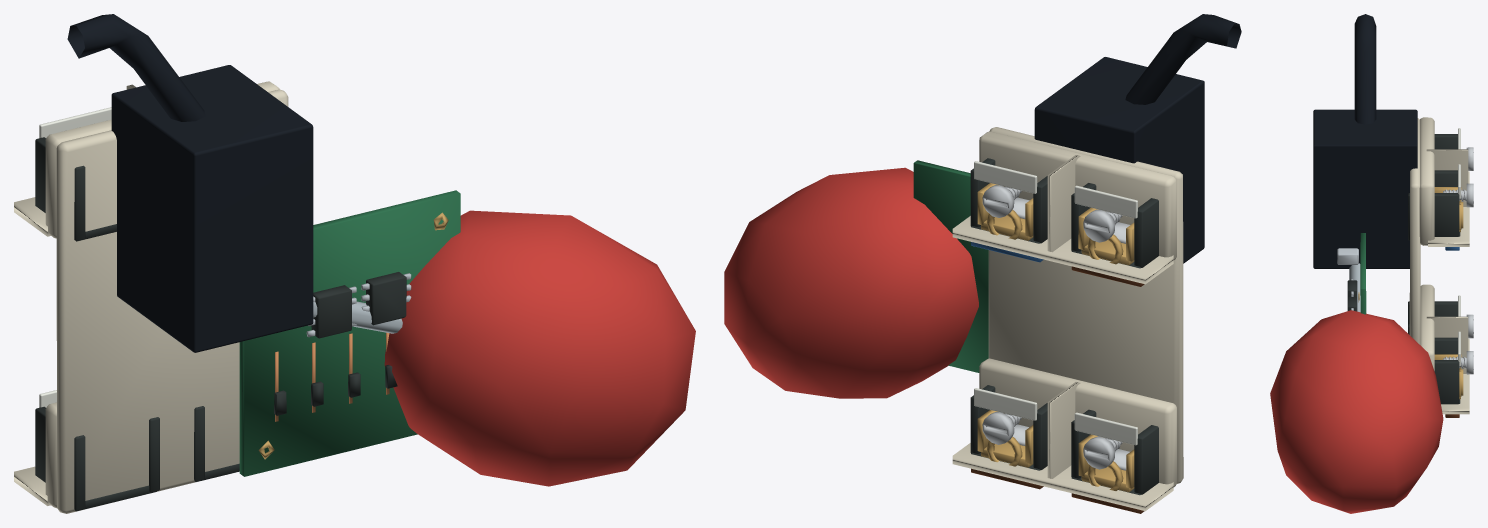
File: sensor_mode_float.low.glb
3 renders of one model, left to right at view 1: azimuth 30°, elevation 25°; view 2: azimuth 150°, elevation 25°; view 3: azimuth 270°, elevation 25°, orthographic. The views are drawn at different scales.
Parts seen in each view (by area): view 1: part:body.001, part:body, part:terminals · Original 5a609f27, FR4 control PCB, part:body.002, detail:sensor-interface · Detail moulded engineering polymer, detail:terminal-clamp:IN · Detail moulded engineering polyme, detail:terminal-clamp:L · Detail moulded engineering polymer, detail:terminal-clamp:OUT · Detail moulded engineering polym, Moulded terminal legend pad; view 2: part:terminals · Original 5a609f27, part:body.001, part:body, FR4 control PCB, part:body.002, detail:terminal-clamp:L · Detail moulded engineering polymer, detail:terminal-clamp:IN · Detail moulded engineering polyme, detail:terminal-clamp:IN · Detail machined brass, detail:terminal-clamp:L · Detail machined brass, detail:terminal-clamp:N · Detail machined brass, detail:terminal-clamp:OUT · Detail machined brass, detail:terminal-clamp:OUT · Detail moulded engineering polym (+9 smaller); view 3: part:body.001, part:body, part:terminals · Original 5a609f27, part:body.002, detail:terminal-clamp:N · Detail moulded engineering polymer, detail:terminal-clamp:OUT · Detail moulded engineering polym, FR4 control PCB, detail:terminal-clamp:IN · Detail moulded engineering polyme, detail:terminal-clamp:L · Detail moulded engineering polymer, detail:sensor-transducer · Detail brushed stainless steel, detail:sensor-interface · Detail moulded engineering polymer, detail:terminal-clamp:N · Detail zinc plated fixing (+3 smaller).
Boxes of the visible parts, x1,y1,x2,y2 form: part:body.001: [313, 210, 695, 486]; part:body: [111, 65, 313, 352]; part:terminals · Original 5a609f27: [14, 81, 288, 513]; FR4 control PCB: [239, 190, 460, 476]; part:body.002: [67, 14, 205, 121]; detail:sensor-interface · Detail moulded engineering polymer: [274, 272, 406, 415]; detail:terminal-clamp:IN · Detail moulded engineering polyme: [35, 406, 159, 511]; detail:terminal-clamp:L · Detail moulded engineering polymer: [35, 137, 116, 241]; detail:terminal-clamp:OUT · Detail moulded engineering polym: [194, 406, 239, 481]; Moulded terminal legend pad: [39, 107, 111, 137]; part:terminals · Original 5a609f27: [952, 127, 1183, 511]; part:body.001: [724, 167, 978, 398]; part:body: [1034, 57, 1204, 263]; FR4 control PCB: [913, 160, 988, 372]; part:body.002: [1125, 14, 1241, 104]; detail:terminal-clamp:L · Detail moulded engineering polymer: [1071, 183, 1158, 268]; detail:terminal-clamp:IN · Detail moulded engineering polyme: [1071, 409, 1158, 495]; detail:terminal-clamp:IN · Detail machined brass: [1078, 434, 1134, 492]; detail:terminal-clamp:L · Detail machined brass: [1078, 207, 1134, 265]; detail:terminal-clamp:N · Detail machined brass: [977, 183, 1033, 240]; detail:terminal-clamp:OUT · Detail machined brass: [977, 410, 1033, 467]; detail:terminal-clamp:OUT · Detail moulded engineering polym: [970, 385, 1047, 470]; part:body.001: [1270, 263, 1443, 513]; part:body: [1313, 109, 1417, 268]; part:terminals · Original 5a609f27: [1409, 117, 1469, 414]; part:body.002: [1354, 14, 1376, 124]; detail:terminal-clamp:N · Detail moulded engineering polymer: [1408, 170, 1460, 240]; detail:terminal-clamp:OUT · Detail moulded engineering polym: [1434, 337, 1460, 404]; FR4 control PCB: [1360, 233, 1366, 314]; detail:terminal-clamp:IN · Detail moulded engineering polyme: [1408, 301, 1457, 334]; detail:terminal-clamp:L · Detail moulded engineering polymer: [1434, 134, 1457, 149]; detail:sensor-transducer · Detail brushed stainless steel: [1337, 248, 1358, 264]; detail:sensor-interface · Detail moulded engineering polymer: [1347, 280, 1357, 311]; detail:terminal-clamp:N · Detail zinc plated fixing: [1443, 183, 1473, 207].
Bounding box in the file's own units: 0.9281 × 0.8311 × 0.442.
